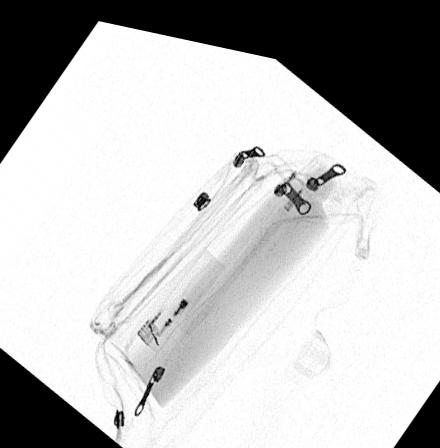Lighter: (135, 238, 223, 345)
